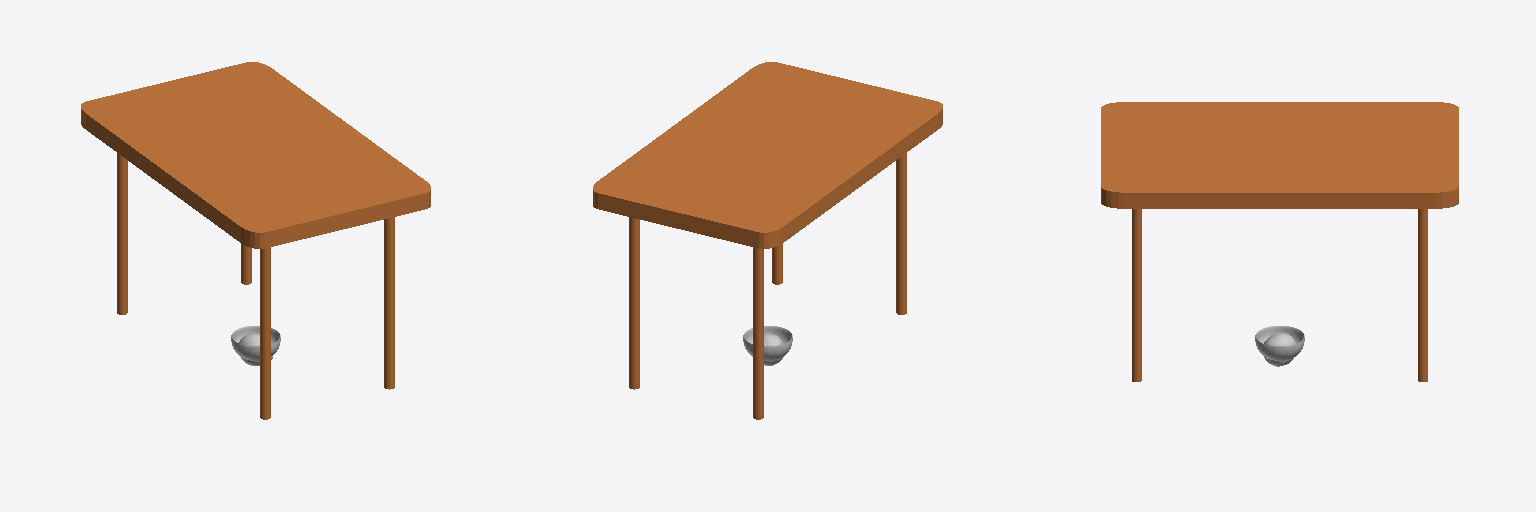
Rendered from bowl.obj.
3 views of the same model, side by side, from view 1: azimuth 30°, elevation 25°; view 2: azimuth 150°, elevation 25°; view 3: azimuth 270°, elevation 25° (orthographic).
Parts seen in each view (by area): view 1: Cube, Cylinder.002, Cylinder.003, Cylinder.001, bowl; view 2: Cube, Cylinder.001, Cylinder, Cylinder.002, bowl; view 3: Cube, Cylinder, Cylinder.003, bowl.
Boxes of the visible parts, box(x1,y1,x2,y2) form: Cube: box(81, 62, 430, 248); Cylinder.002: box(260, 247, 270, 419); Cylinder.003: box(384, 217, 394, 389); Cylinder.001: box(117, 153, 127, 314); bowl: box(231, 326, 280, 360); Cube: box(593, 62, 942, 248); Cylinder.001: box(753, 247, 763, 419); Cylinder: box(629, 217, 639, 389); Cylinder.002: box(896, 153, 906, 314); bowl: box(743, 326, 792, 360); Cube: box(1101, 102, 1458, 208); Cylinder: box(1418, 209, 1427, 381); Cylinder.003: box(1132, 209, 1141, 381); bowl: box(1255, 326, 1304, 360).
Bounding box in the file's own units: 0.6 × 0.6703 × 1.